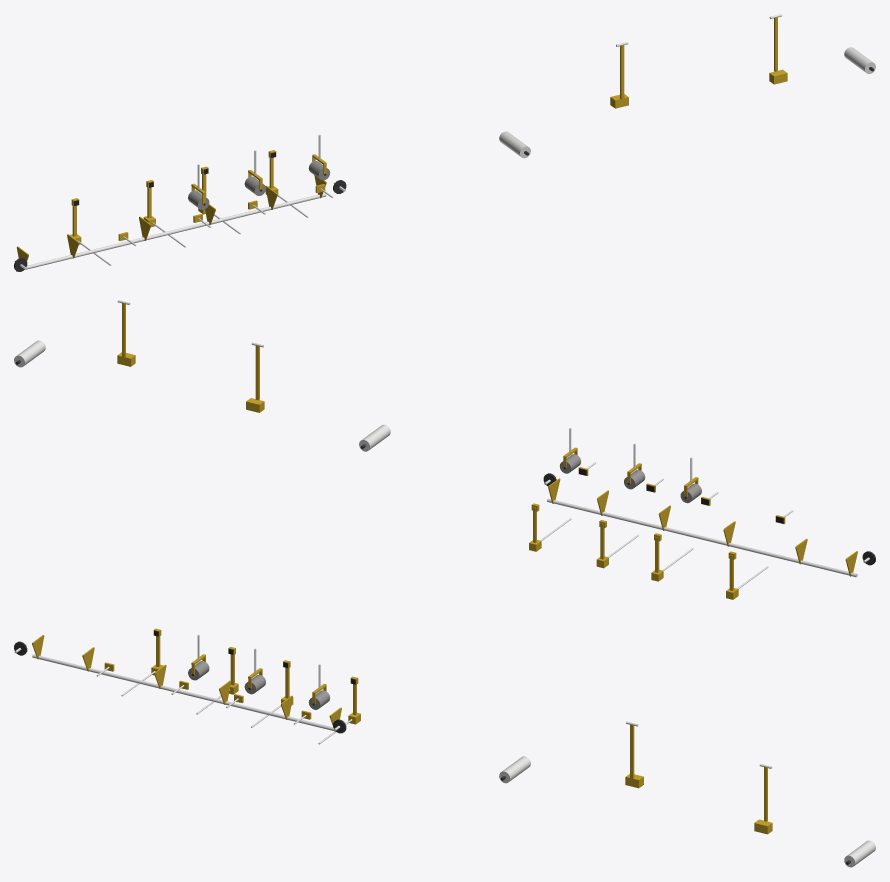
Rendered from board_edger_parts.glb.
The picture shows the model from 3 angles, top to bottom: view 1: azimuth 30°, elevation 25°; view 2: azimuth 150°, elevation 25°; view 3: azimuth 330°, elevation 25°; orthographic projection.
Visible parts, largest first — view 1: ED_RampsMesh, ED_Picker1Mesh; view 2: ED_RampsMesh; view 3: ED_RampsMesh, ED_Picker1Mesh, ED_Picker2Mesh.
Boxes of the visible parts, box(x1,y1,x2,y2) form: ED_RampsMesh: box(16, 175, 326, 271); ED_Picker1Mesh: box(610, 42, 628, 108); ED_RampsMesh: box(547, 478, 857, 577); ED_RampsMesh: box(32, 635, 341, 731); ED_Picker1Mesh: box(625, 721, 643, 788); ED_Picker2Mesh: box(754, 764, 772, 834).
Bounding box in the file's own units: 15.04 × 1.73 × 1.93.
